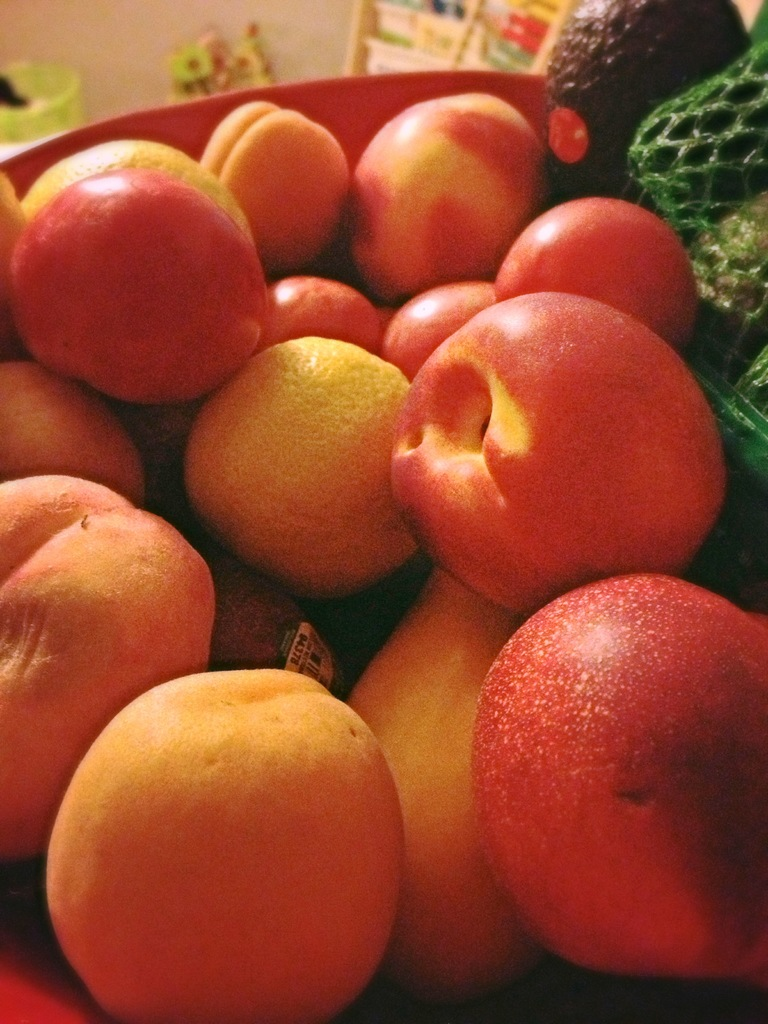Apple: (394, 282, 729, 611), (340, 89, 543, 303)
